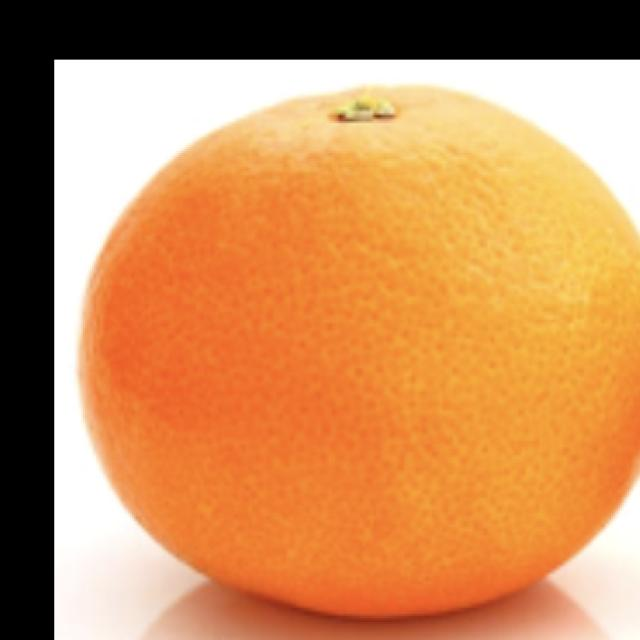orange: (76, 76, 640, 619)
